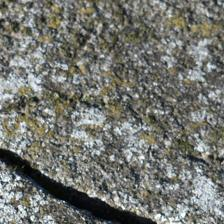Crack: (3, 73, 149, 150)
